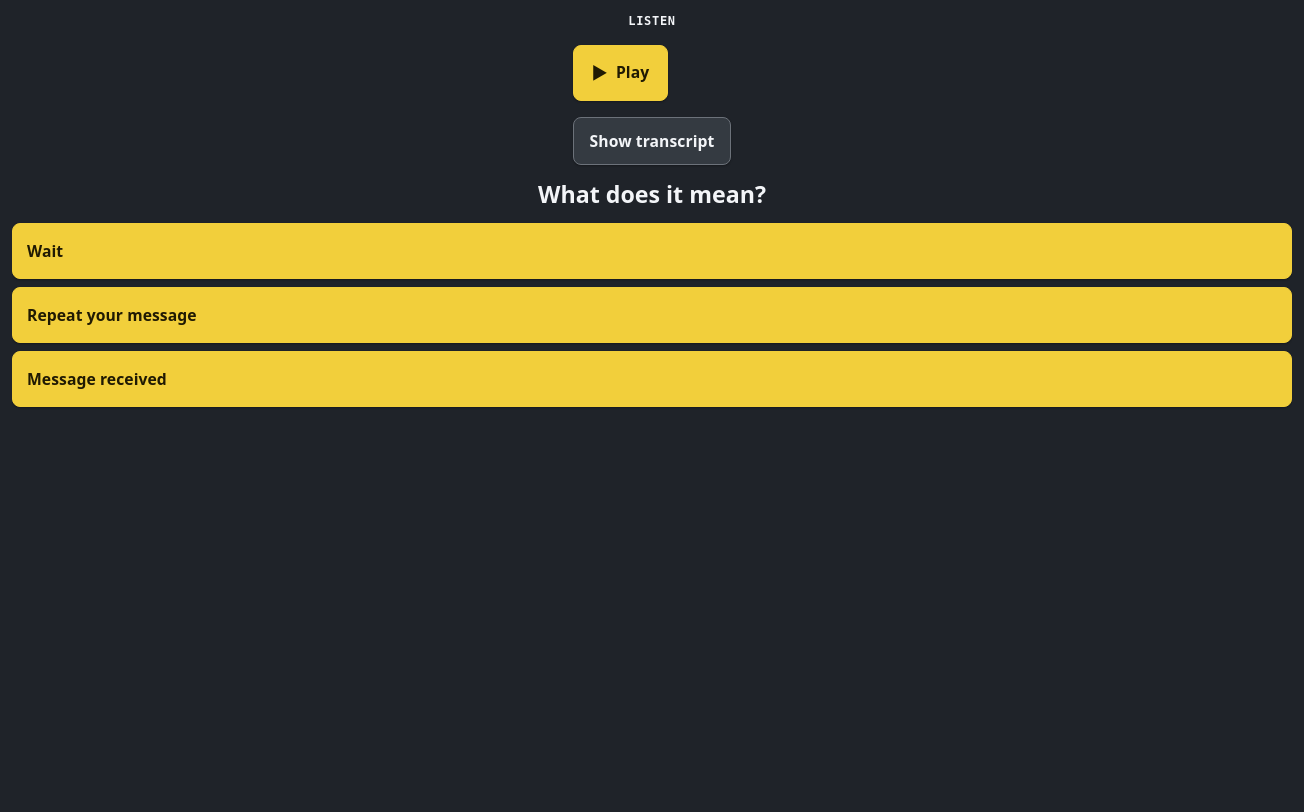
Scenario: a listening card › grades a choice miss and shows the key
This screenshot has width=1304, height=812.
Click the button "Wait": x=45, y=251 top-left (12, 223), bottom-right (1292, 279)
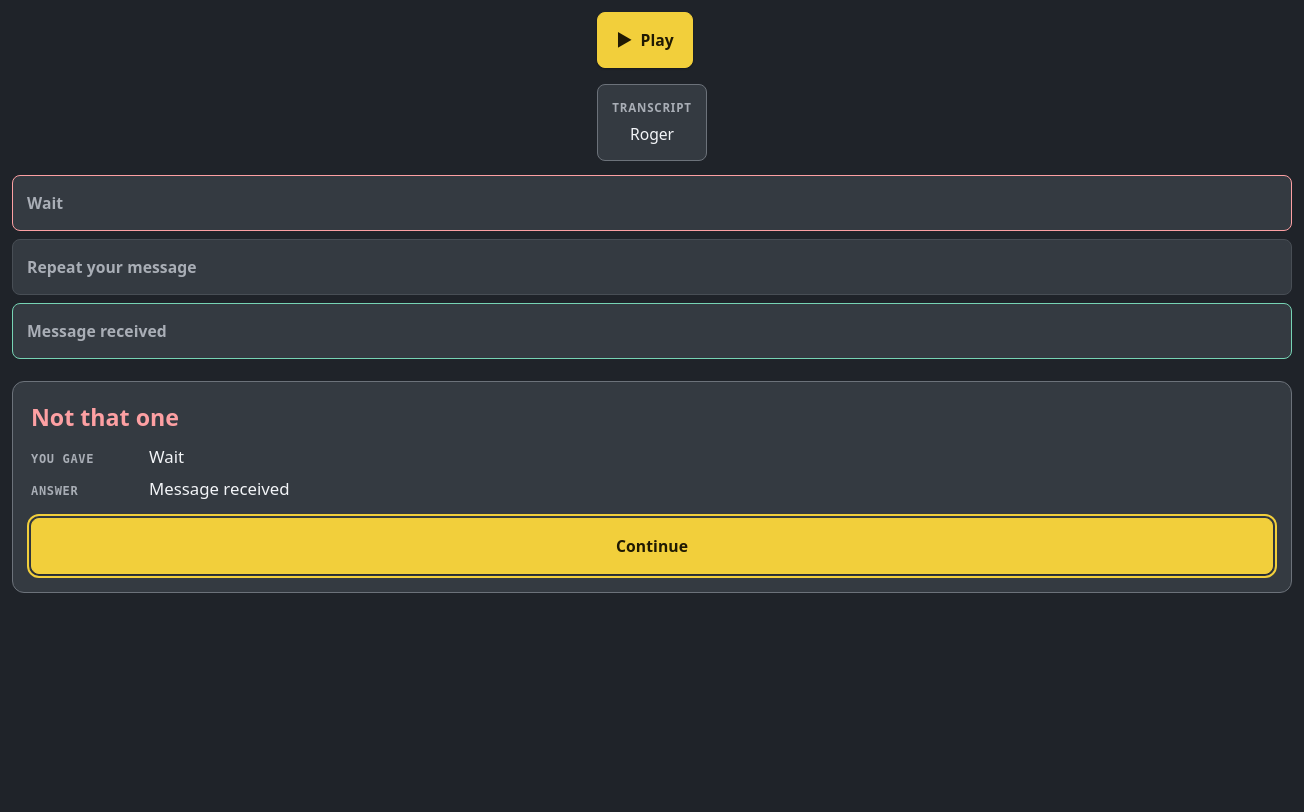
Expected: the text "Not that one" is shown, top-left (31, 401), bottom-right (179, 433)
